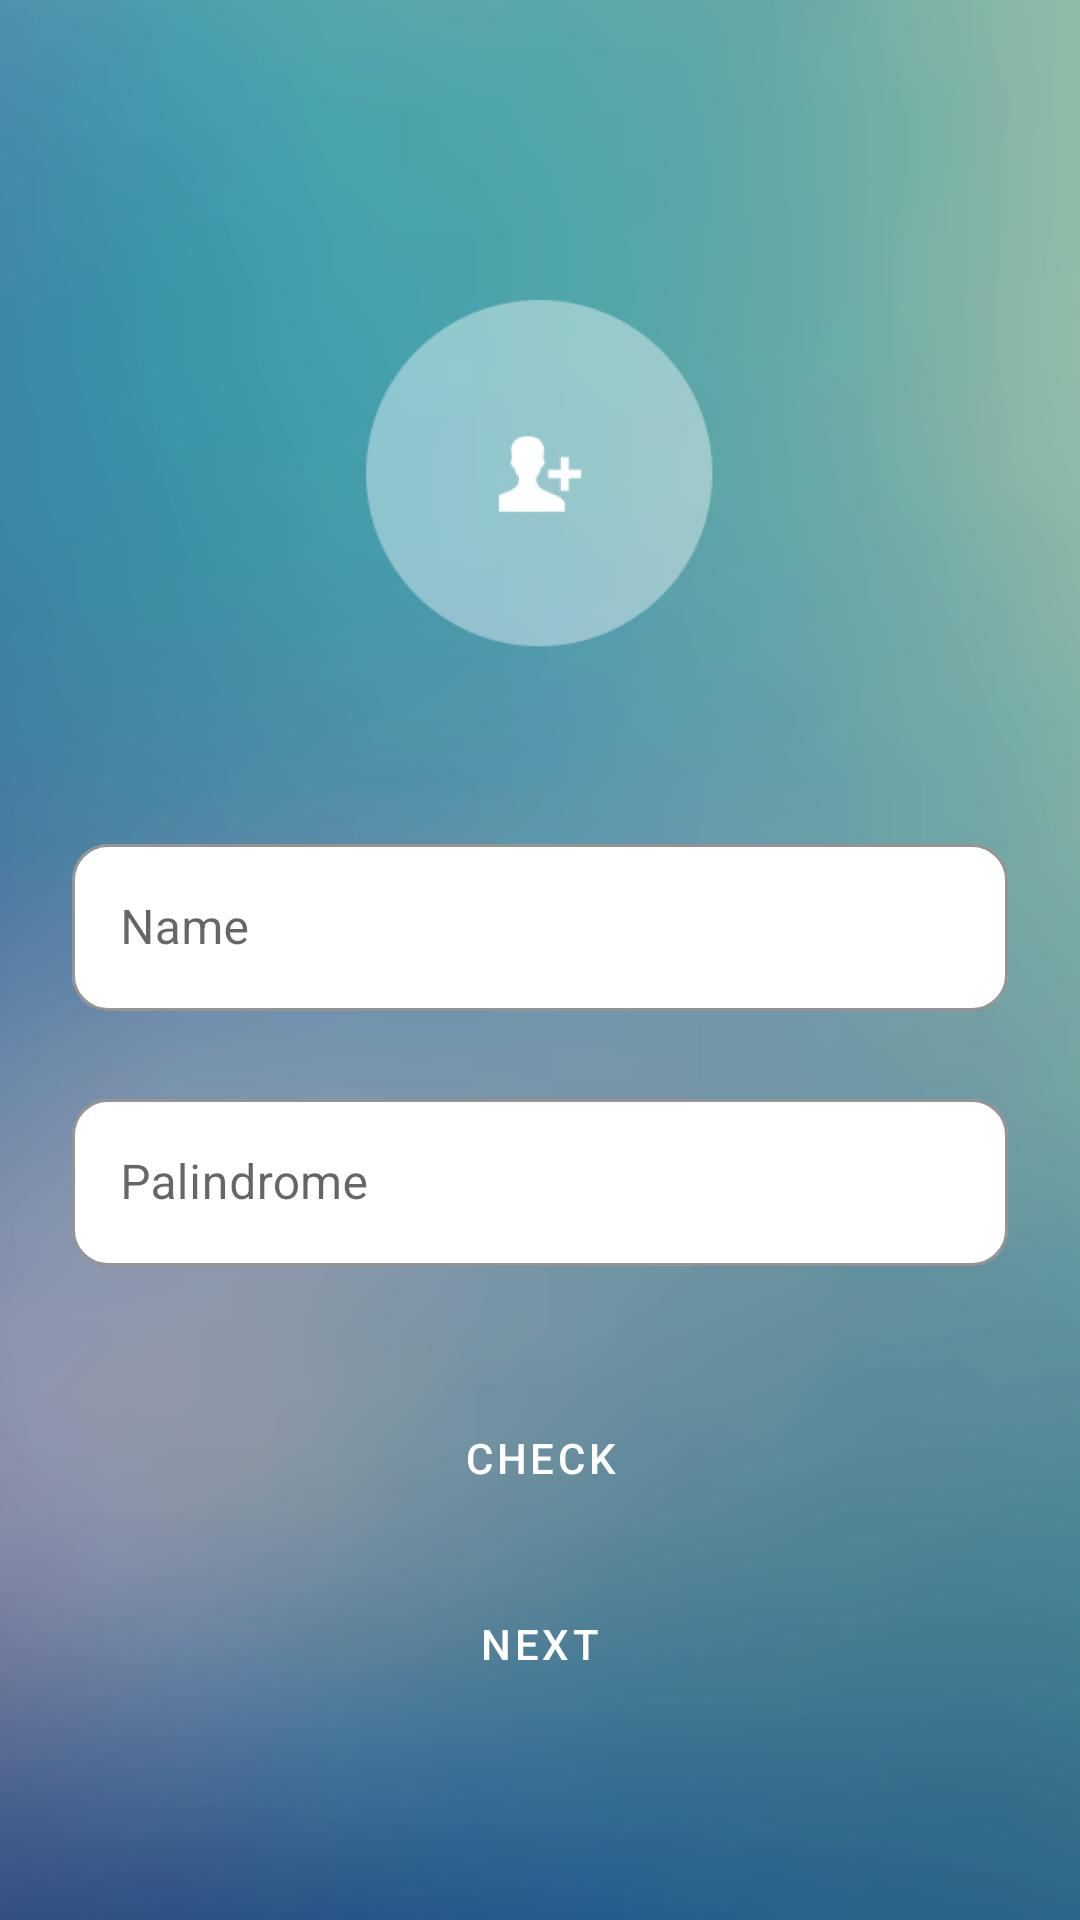

Point at icon controls on the screen. Image size 1080px x 1920px, points as point (x, y).
photo: point (539, 473)
